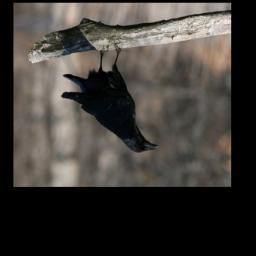Crow: (61, 41, 159, 155)
